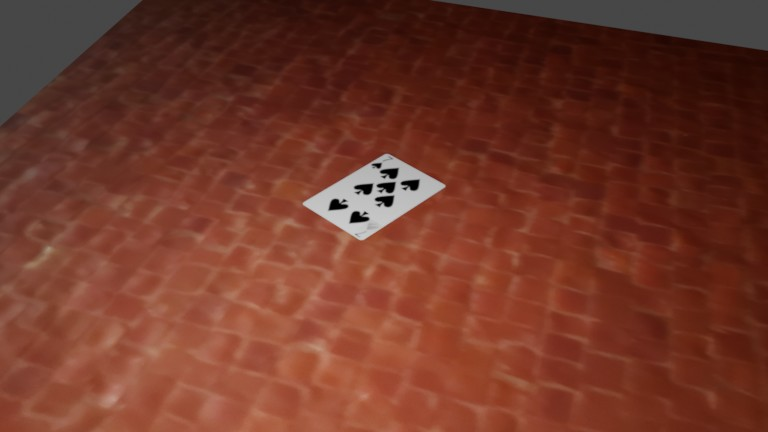7_of_spades: (351, 219, 383, 239), (367, 154, 396, 171)
